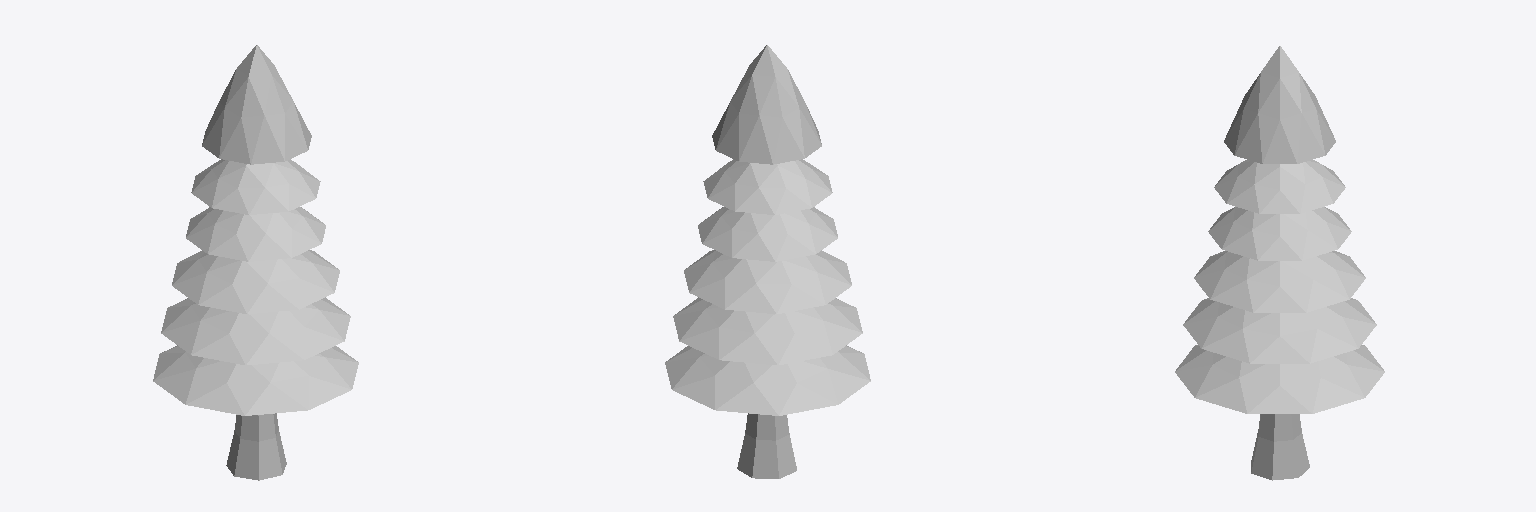
Rendered from tree_2.obj.
3 renders of one model, left to right at view 1: azimuth 30°, elevation 25°; view 2: azimuth 150°, elevation 25°; view 3: azimuth 270°, elevation 25°, orthographic.
Visible parts, largest first — view 1: Icosphere.010, Icosphere.009, Icosphere.006, Icosphere.008, Icosphere.007, Icosphere.005, Cylinder.002; view 2: Icosphere.010, Icosphere.009, Icosphere.006, Icosphere.008, Icosphere.007, Icosphere.005, Cylinder.002; view 3: Icosphere.010, Icosphere.009, Icosphere.006, Icosphere.008, Icosphere.007, Icosphere.005, Cylinder.002.
Part boxes in pixels (left/top/right/bottom): Icosphere.010: left=153, top=345, right=358, bottom=415; Icosphere.009: left=161, top=297, right=350, bottom=364; Icosphere.006: left=202, top=45, right=311, bottom=164; Icosphere.008: left=172, top=250, right=339, bottom=313; Icosphere.007: left=186, top=207, right=325, bottom=261; Icosphere.005: left=191, top=159, right=320, bottom=214; Cylinder.002: left=226, top=413, right=286, bottom=480; Icosphere.010: left=665, top=345, right=870, bottom=415; Icosphere.009: left=673, top=297, right=862, bottom=364; Icosphere.006: left=712, top=45, right=821, bottom=164; Icosphere.008: left=684, top=250, right=851, bottom=313; Icosphere.007: left=698, top=207, right=837, bottom=261; Icosphere.005: left=703, top=159, right=832, bottom=214; Cylinder.002: left=737, top=413, right=796, bottom=478; Icosphere.010: left=1175, top=345, right=1384, bottom=413; Icosphere.009: left=1183, top=298, right=1376, bottom=363; Icosphere.006: left=1224, top=46, right=1335, bottom=163; Icosphere.008: left=1194, top=251, right=1365, bottom=312; Icosphere.007: left=1208, top=207, right=1351, bottom=260; Icosphere.005: left=1214, top=160, right=1345, bottom=213; Cylinder.002: left=1251, top=414, right=1309, bottom=480.
Size of the model in its own units: 2.97 by 6.91 by 3.12.